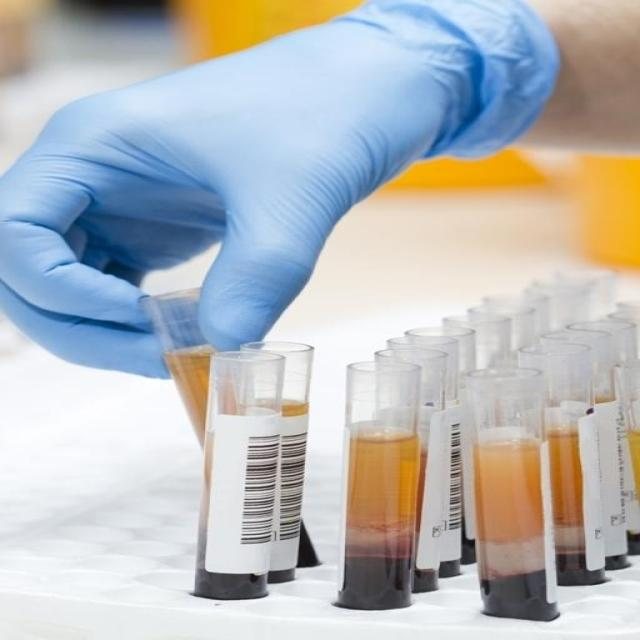Medical Waste: (6, 249, 640, 639)
